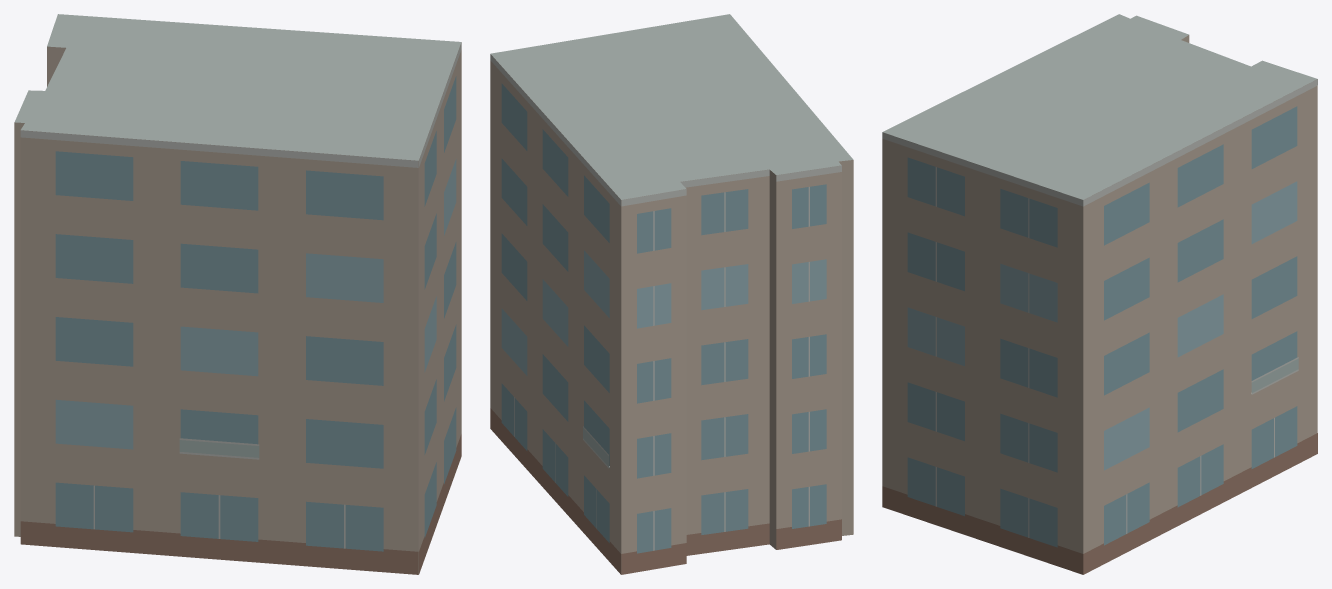
The model's file is survey-upis-32693093.glb.
3 views of the same model, side by side, from view 1: azimuth 30°, elevation 25°; view 2: azimuth 150°, elevation 25°; view 3: azimuth 270°, elevation 25° (orthographic). The views are drawn at different scales.
Parts seen in each view (by area): view 1: survey-upis-32693093.tmp; view 2: survey-upis-32693093.tmp; view 3: survey-upis-32693093.tmp.
Boxes of the visible parts, x1,y1,x2,y2 form: survey-upis-32693093.tmp: (14, 14, 461, 574); survey-upis-32693093.tmp: (490, 14, 853, 574); survey-upis-32693093.tmp: (882, 14, 1317, 574).
Bounding box in the file's own units: 14.91 × 14 × 14.75.
